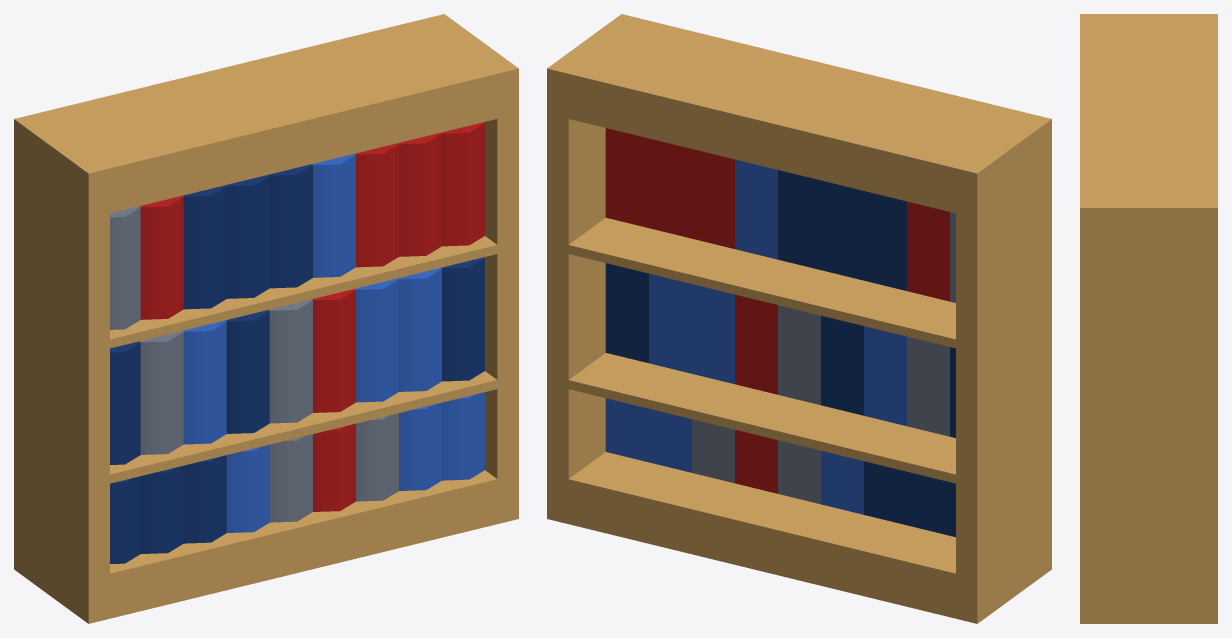
File: bookshelf.fbx
The picture shows the model from 3 angles, left to right: view 1: azimuth 30°, elevation 25°; view 2: azimuth 150°, elevation 25°; view 3: azimuth 270°, elevation 25°; orthographic projection. The views are drawn at different scales.
Visible parts, largest first — view 1: bookshelf, books1; view 2: bookshelf, books1; view 3: bookshelf.
Part boxes in pixels (x1,y1,x2,y2): bookshelf: (14, 14, 518, 623); books1: (110, 122, 484, 564); bookshelf: (547, 14, 1051, 623); books1: (605, 128, 955, 537); bookshelf: (1080, 14, 1217, 623).
Bounding box in the file's own units: 10 × 10 × 3.
